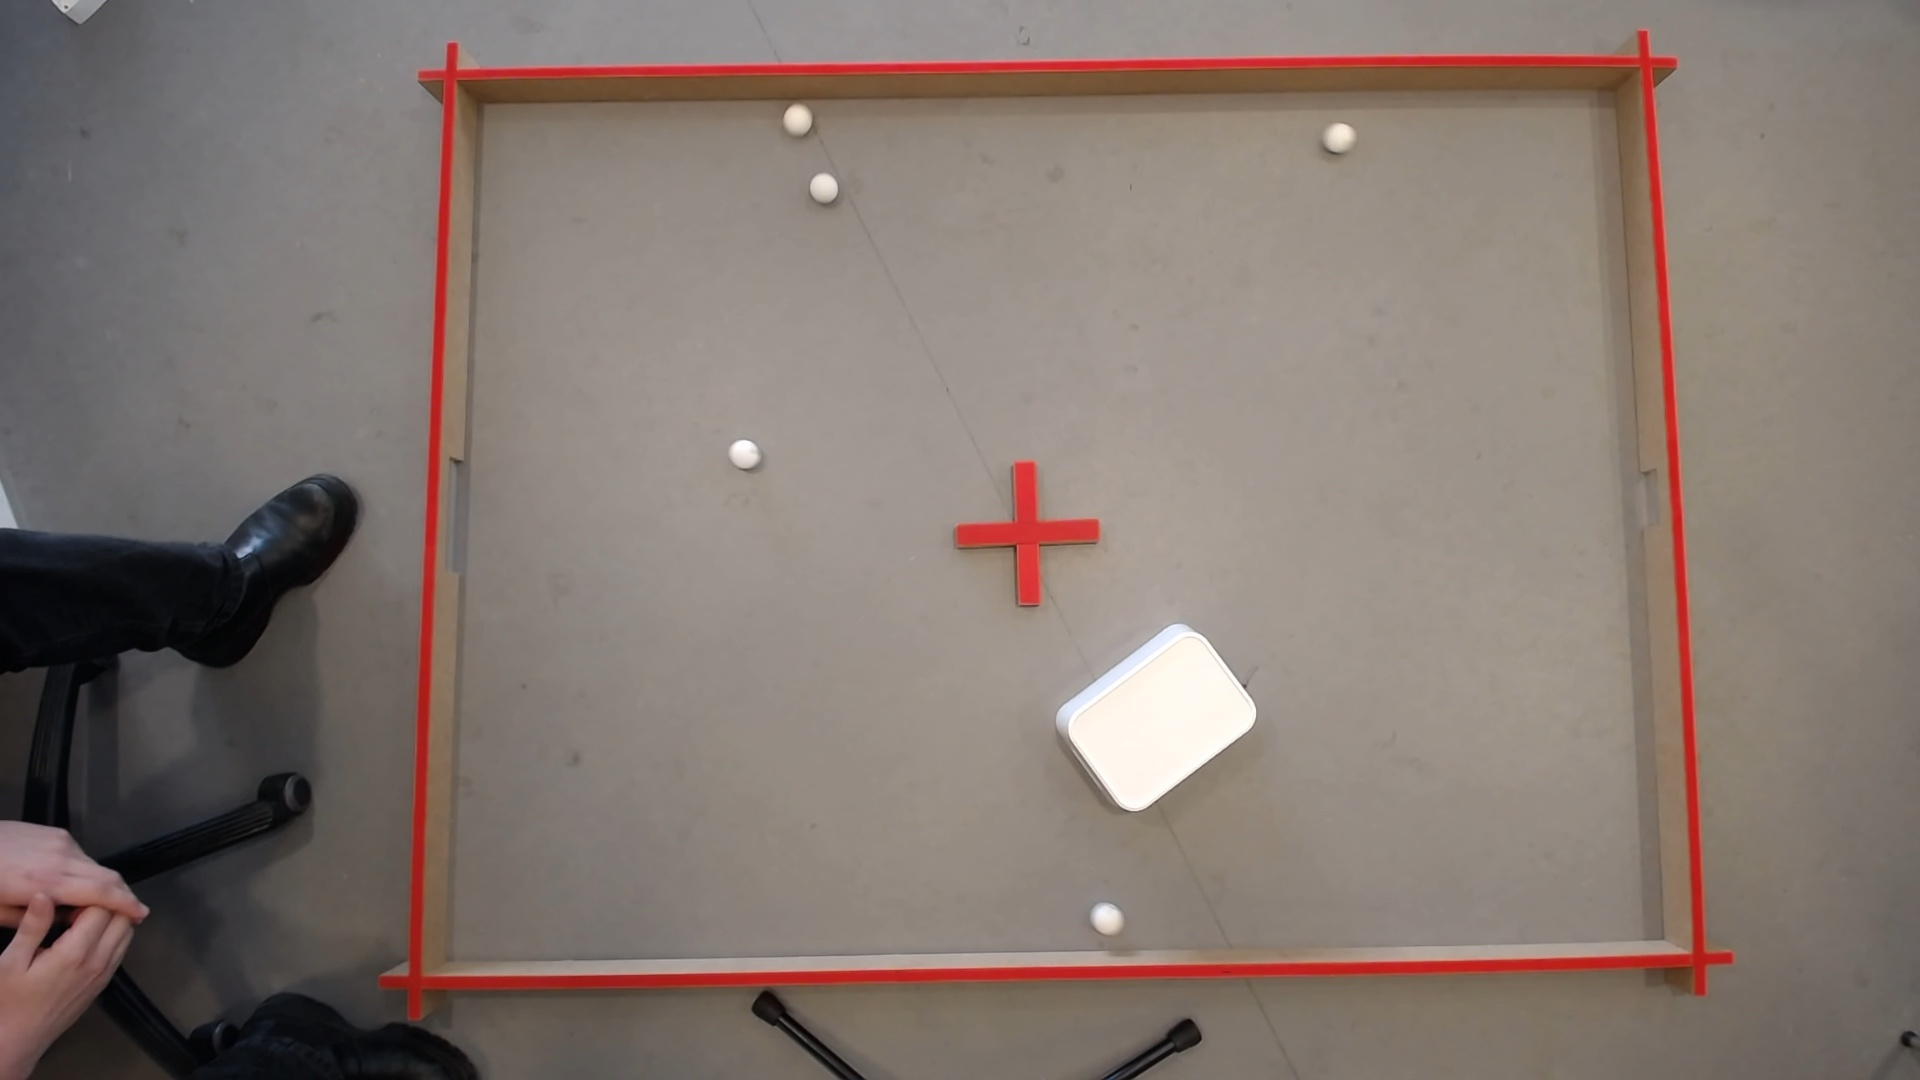balls: (1048, 611, 1265, 819), (1088, 899, 1124, 934), (727, 434, 761, 468), (807, 169, 839, 198), (1324, 119, 1354, 148)
car: (781, 103, 811, 132)
